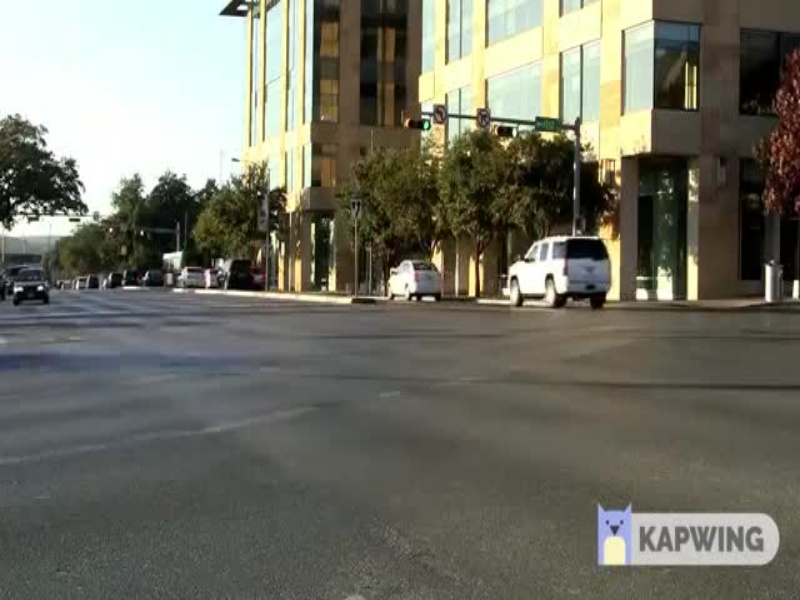car: (377, 246, 443, 304)
suv: (495, 230, 613, 314)
